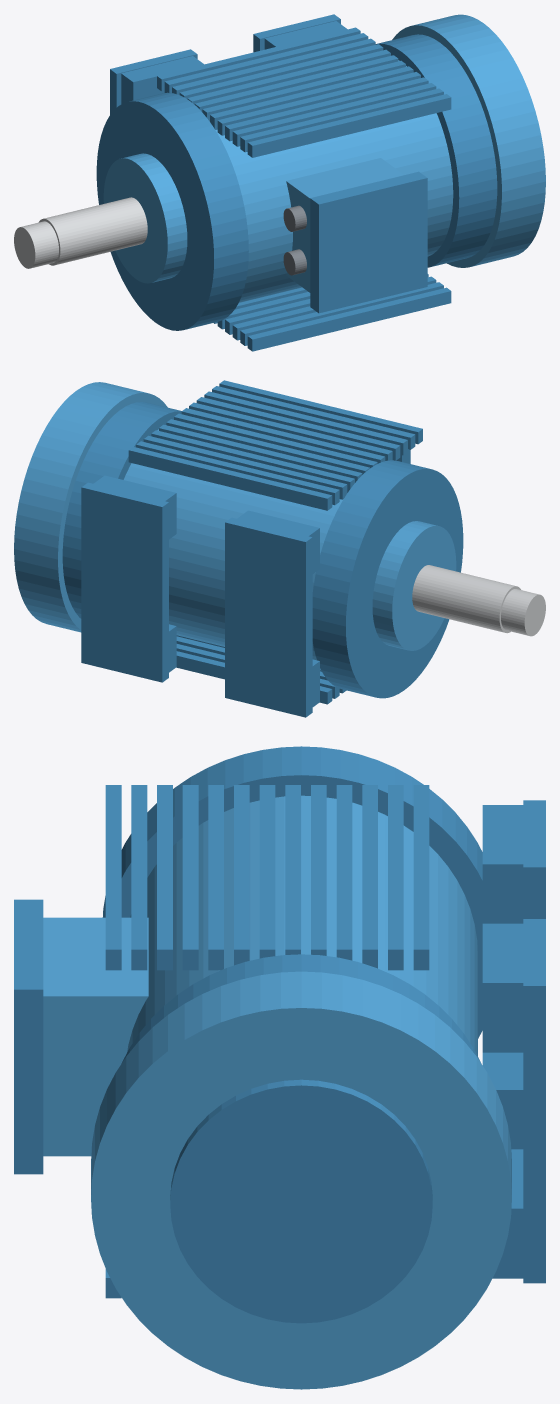
The model's file is ap-eq-motor-electric-procedural.glb.
3 views of the same model, one above another, from view 1: azimuth 30°, elevation 25°; view 2: azimuth 150°, elevation 25°; view 3: azimuth 270°, elevation 25° (orthographic). The views are drawn at different scales.
Visible parts, largest first — view 1: front_bell, body, terminal_lid, fan_cover, rear_bell, front_collar, shaft, fin_left_12, fin_right_12, terminal_box, shaft_tip, fin_right_10 (+22 smaller); view 2: front_bell, mount_pad_-0.62, mount_pad_0.62, fan_cover, body, front_collar, rear_bell, shaft, fin_right_0, shaft_tip, fin_right_9, fin_right_2 (+15 smaller); view 3: fan_cover, rear_cap, body, terminal_box, front_bell, mount_pad_0.62, terminal_lid, foot_0.62_0.55, rear_bell, foot_-0.62_0.55, fin_right_9, fin_right_11 (+14 smaller).
Part boxes in pixels (bbox=[...]): front_bell: bbox=[96, 92, 248, 330]; body: bbox=[215, 60, 453, 302]; terminal_lid: bbox=[310, 171, 427, 313]; fan_cover: bbox=[392, 14, 545, 267]; rear_bell: bbox=[375, 34, 497, 267]; front_collar: bbox=[103, 153, 187, 283]; shaft: bbox=[38, 197, 147, 265]; fin_left_12: bbox=[247, 287, 451, 351]; fin_right_12: bbox=[247, 94, 451, 157]; terminal_box: bbox=[286, 158, 403, 292]; shaft_tip: bbox=[14, 221, 58, 268]; fin_right_10: bbox=[232, 83, 436, 146]; front_bell: bbox=[312, 460, 463, 698]; mount_pad_-0.62: bbox=[225, 517, 312, 717]; mount_pad_0.62: bbox=[81, 482, 168, 682]; fan_cover: bbox=[14, 382, 167, 632]; body: bbox=[123, 429, 343, 670]; front_collar: bbox=[372, 521, 456, 650]; rear_bell: bbox=[62, 402, 181, 618]; shaft: bbox=[412, 565, 520, 633]; fin_right_0: bbox=[128, 447, 332, 510]; shaft_tip: bbox=[501, 589, 545, 636]; fin_right_9: bbox=[196, 397, 400, 460]; fin_right_2: bbox=[143, 435, 347, 499]; fan_cover: bbox=[91, 971, 511, 1389]; rear_cap: bbox=[170, 1079, 432, 1323]; body: bbox=[127, 795, 477, 1055]; terminal_box: bbox=[43, 917, 148, 1156]; front_bell: bbox=[102, 746, 482, 1038]; mount_pad_0.62: bbox=[523, 919, 545, 1283]; terminal_lid: bbox=[14, 899, 43, 1174]; foot_0.62_0.55: bbox=[482, 923, 523, 1052]; rear_bell: bbox=[121, 954, 480, 1063]; foot_-0.62_0.55: bbox=[482, 805, 523, 923]; fin_right_9: bbox=[182, 785, 198, 970]; fin_right_11: bbox=[131, 785, 147, 970].
Size of the model in its own units: 4.03 by 1.86 by 2.35.
